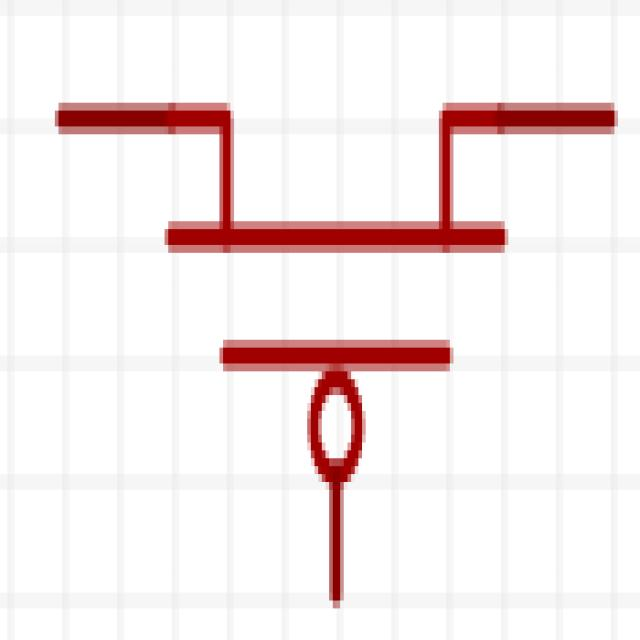pmos: (70, 28, 586, 640)
